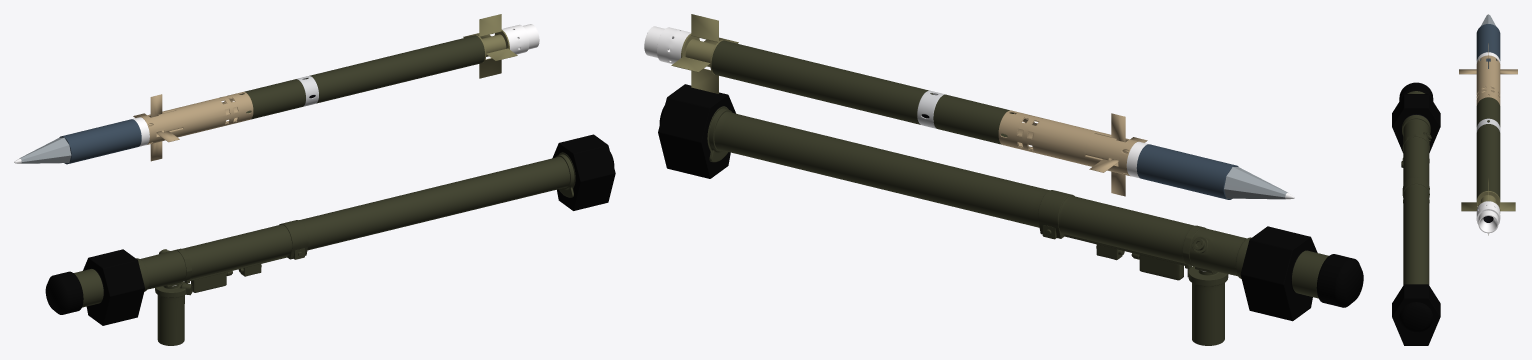
File: mistral_launcher_rocket_static.glb
The picture shows the model from 3 angles, left to right: view 1: azimuth 30°, elevation 25°; view 2: azimuth 150°, elevation 25°; view 3: azimuth 270°, elevation 25°; orthographic projection. The views are drawn at different scales.
Visible parts, largest first — view 1: launcher, roket_body_back, cap_front, cap_back, servomotor, roket_body_front, cooler, irdome, launch_motor, stabilizer_back_base; view 2: launcher, roket_body_back, cap_front, cap_back, servomotor, roket_body_front, cooler, irdome, launch_motor, stabilizer_back_base, stabilizer_back_3, cor_motor (+1 smaller); view 3: launcher, cap_back, roket_body_back, cap_front, servomotor, roket_body_front, launch_motor, stabilizer_back_base, stabilizer_back_2, stabilizer_back_4, cor_motor.
Part boxes in pixels (x1,y1,x2,y2): launcher: (136,152,575,292); roket_body_back: (240,35,484,119); cap_front: (45,249,144,325); cap_back: (552,134,615,210); servomotor: (140,92,253,144); roket_body_front: (59,117,149,164); cooler: (155,281,192,345); irdome: (14,137,71,163); launch_motor: (501,24,539,54); stabilizer_back_base: (476,30,509,62); launcher: (707,106,1251,280); roket_body_back: (711,40,1013,144); cap_front: (1240,226,1363,321); cap_back: (658,84,735,178); servomotor: (998,110,1138,176); roket_body_front: (1126,141,1238,199); cooler: (1188,266,1228,345); irdome: (1224,167,1294,199); launch_motor: (644,26,690,64); stabilizer_back_base: (681,33,723,74); stabilizer_back_3: (691,14,718,42); cor_motor: (917,90,945,128); launcher: (1402,114,1431,284); cap_back: (1392,284,1440,345); roket_body_back: (1476,97,1500,199); cap_front: (1392,82,1440,152); servomotor: (1476,55,1500,105); roket_body_front: (1476,24,1500,68); launch_motor: (1476,201,1500,233); stabilizer_back_base: (1476,191,1500,210); stabilizer_back_2: (1499,202,1515,211); stabilizer_back_4: (1461,202,1477,211); cor_motor: (1476,118,1500,132).
Size of the model in its own units: 1.98 by 0.7041 by 0.471.
